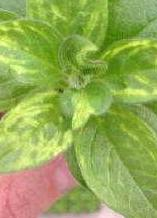Tomato leaf mosaic virus: (71, 108, 157, 218), (29, 0, 112, 73), (0, 19, 74, 92), (97, 37, 157, 102)
